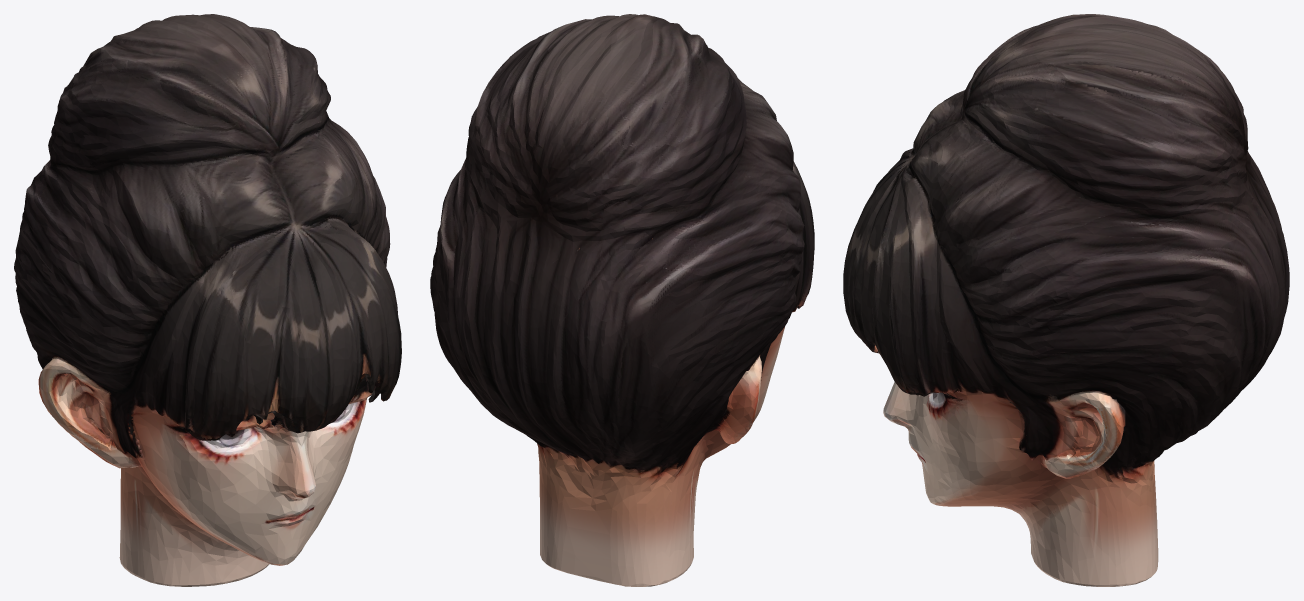
Rendered from side_tomeko_repaired_atlas.glb.
3 views of the same model, side by side, from view 1: azimuth 30°, elevation 25°; view 2: azimuth 150°, elevation 25°; view 3: azimuth 270°, elevation 25° (orthographic).
Visible parts, largest first — view 1: temp_mesh.ply; view 2: temp_mesh.ply; view 3: temp_mesh.ply.
Boxes of the visible parts, <box> form: temp_mesh.ply: <box>14,14,401,586</box>; temp_mesh.ply: <box>430,14,814,586</box>; temp_mesh.ply: <box>843,14,1289,586</box>.
Size of the model in its own units: 0.8285 by 1.33 by 1.02.
1 material, 1 textured.
